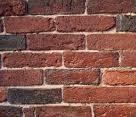brick: (63, 86, 136, 104), (27, 32, 86, 51), (8, 85, 62, 105), (57, 15, 115, 32), (3, 51, 61, 68), (63, 51, 121, 68), (87, 32, 136, 51), (45, 69, 101, 85), (28, 1, 86, 15), (1, 68, 44, 86), (3, 17, 56, 31), (36, 105, 93, 116), (87, 1, 136, 12), (103, 69, 136, 85), (94, 105, 135, 117), (1, 34, 26, 51), (1, 1, 27, 15), (117, 14, 136, 33), (1, 105, 22, 116)
